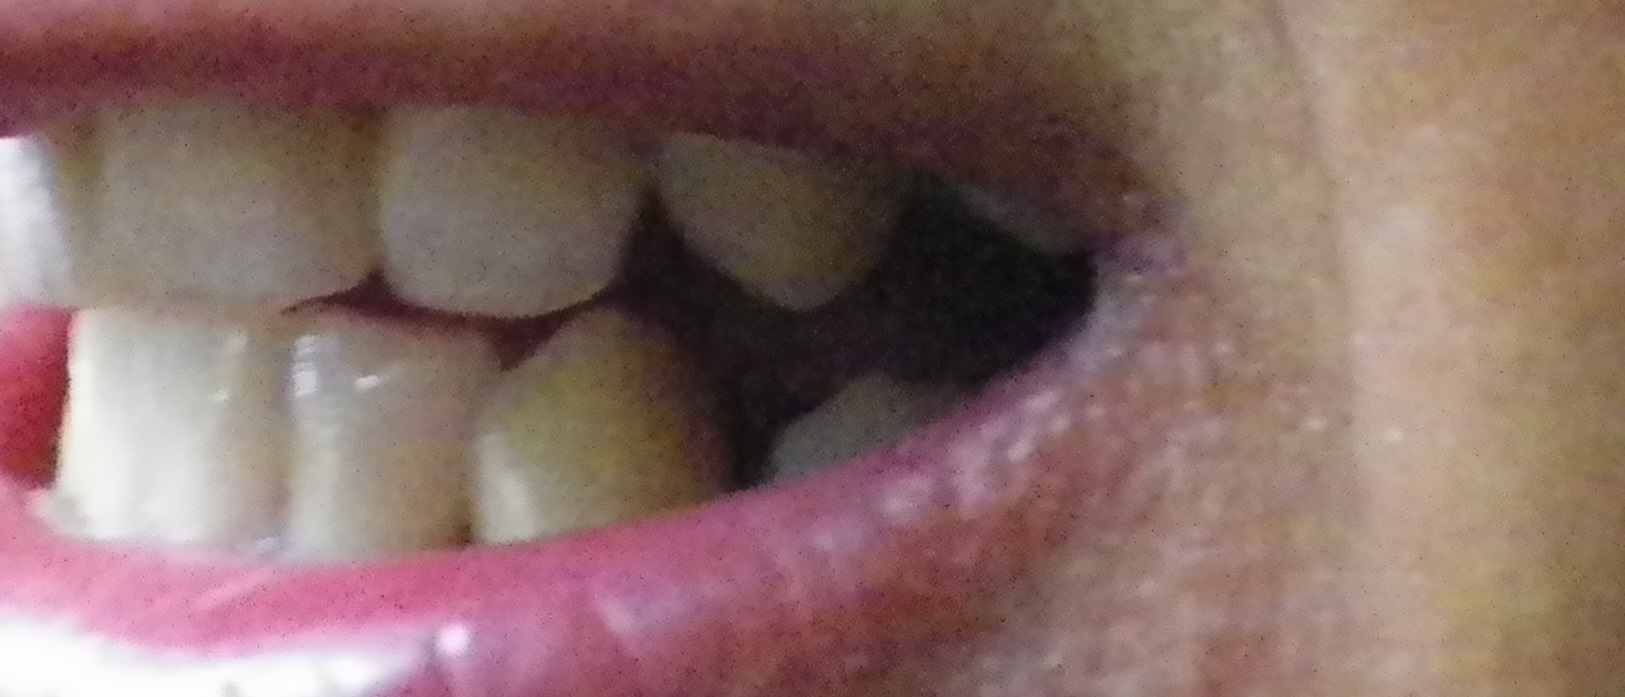boca: (7, 101, 1110, 550)
